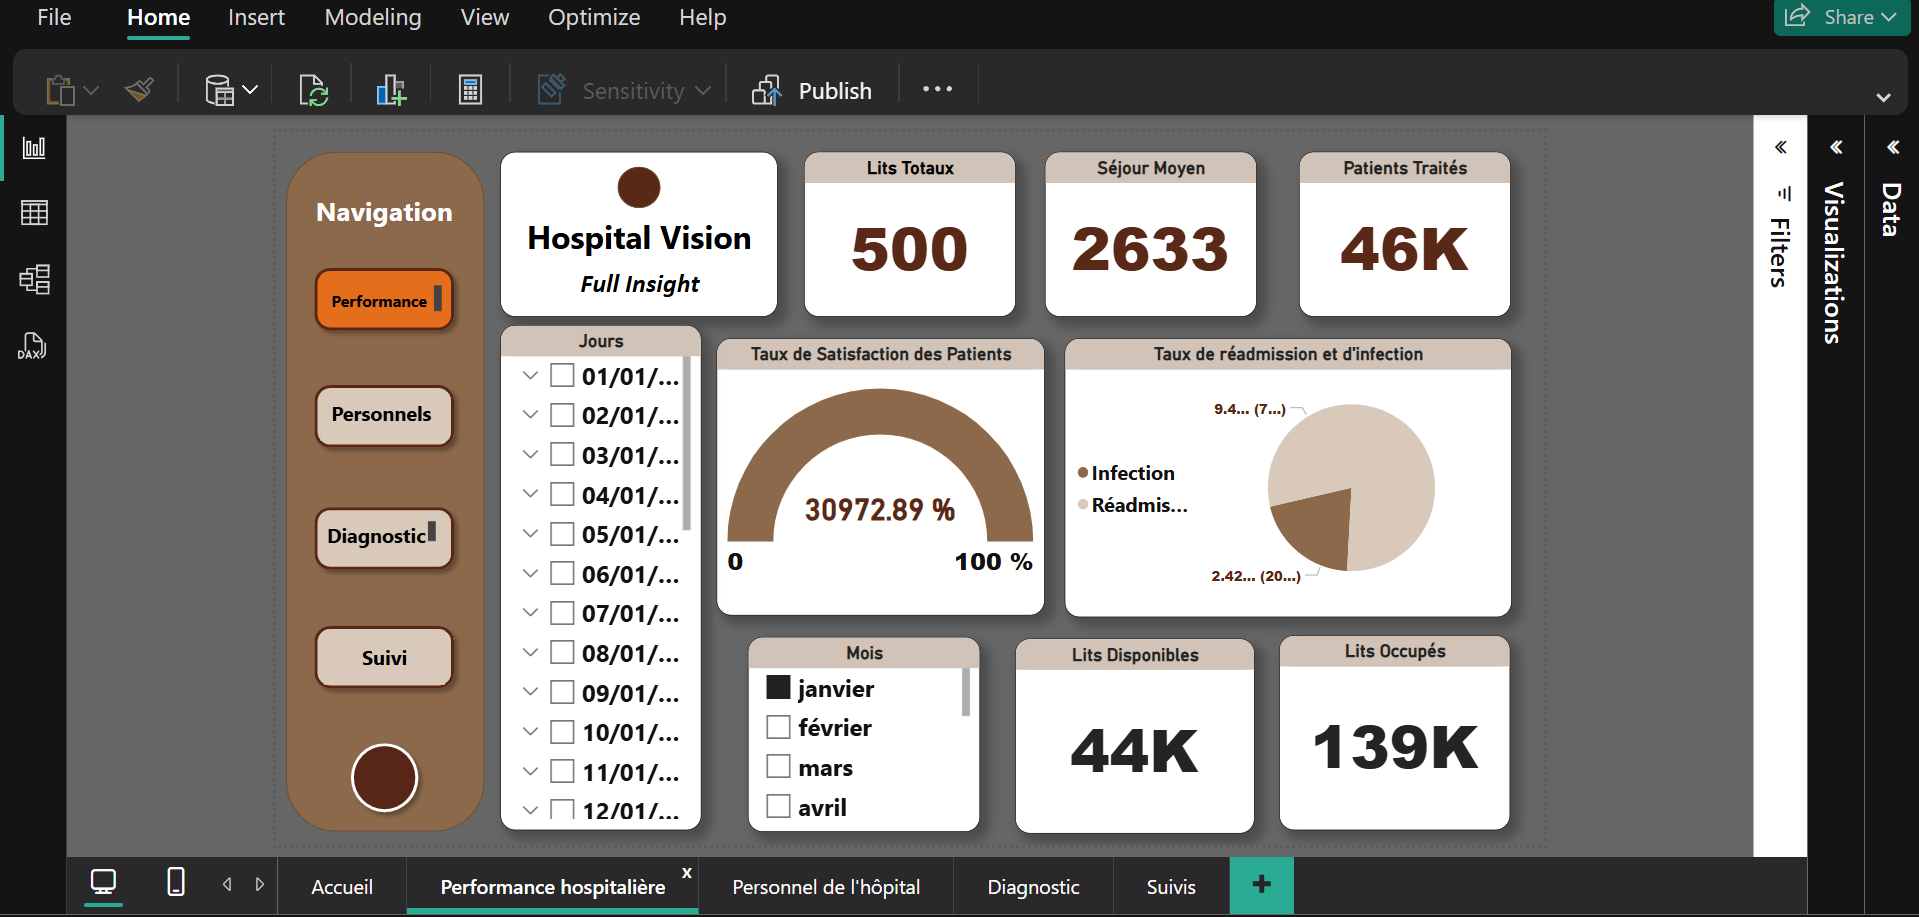

This screenshot's page, from the dashboard's own definition file:
{"tool":"powerbi","page":{"name":"Performance hospitalière","canvas":[1280,720],"ordinal":1},"visuals":[{"type":"card","title":"Lits Totaux","fields":{"Values":["performance_hospital.Lit total"]},"box":[532.8,19.4,213.8,166.8],"z":0},{"type":"textbox","box":[29.8,56.3,159,56.3],"z":0,"group":"g2"},{"type":"shape","box":[29.8,127.5,159,81.2],"z":1000,"group":"g2"},{"type":"gauge","title":"Taux de Satisfaction des Patients","fields":{"Y":["performance_hospital.TauxSatisfactionPatient"],"MinValue":["performance_hospital.ValeurMinimale"],"MaxValue":["performance_hospital.ValeurMaximale"]},"box":[445.2,209,331.6,280.1],"z":1000},{"type":"shape","box":[9.7,19.4,200.8,686.7],"z":2000},{"type":"shape","box":[29.8,369.4,159,81.2],"z":2000,"group":"g2"},{"type":"card","title":"Séjour Moyen","fields":{"Values":["Sum(performance_hospital.AverageStay)"]},"box":[777.4,19.4,213.8,166.8],"z":3000},{"type":"shape","box":[29.8,246.8,159,81.2],"z":3000,"group":"g2"},{"type":"card","title":"Patients Traités","fields":{"Values":["Sum(performance_hospital.PatientsTreated)"]},"box":[1033.3,19.4,213.8,166.8],"z":4000},{"type":"shape","box":[29.8,490.3,159,81.2],"z":4000,"group":"g2"},{"type":"shape","box":[226.5,19.4,279.8,166.6],"z":5000},{"type":"shape","box":[66.2,607.9,86.1,87.8],"z":5000,"group":"g2"},{"type":"group","id":"g1","title":"Groupe 1","box":[237.8,77.6,257.2,101.9],"z":6000},{"type":"textbox","box":[237.8,77.6,257.2,53.4],"z":6000,"group":"g1"},{"type":"shape","box":[344.5,35.6,43.7,42.1],"z":7000},{"type":"textbox","box":[289.6,131,155.3,48.5],"z":7000,"group":"g1"},{"type":"slicer","title":"Jours","fields":{"Values":["personal_hospital.Date","personal_hospital.Date.Variation.Hiérarchie de dates.Jour"]},"box":[227.1,195.3,202.9,510.3],"z":8000},{"type":"pieChart","title":"Taux de réadmission et d''infection","fields":{"Y":["performance_hospital.AveInfection","performance_hospital.AveRead"]},"box":[796.5,209,451.2,281.6],"z":9000},{"type":"card","title":"Lits Disponibles","fields":{"Values":["Sum(performance_hospital.LitsDisponjble)"]},"box":[747.1,511.9,241.8,197.1],"z":10000},{"type":"card","title":"Lits Occupés","fields":{"Values":["Sum(performance_hospital.BedOccupe)"]},"box":[1013.8,508.5,233.6,197.1],"z":11000},{"type":"slicer","title":"Mois","fields":{"Values":["personal_hospital.Date.Variation.Hiérarchie de dates.Mois"]},"box":[477,510.3,234.7,196.8],"z":12000},{"type":"group","id":"g2","title":"Groupe 2","box":[29.8,56.3,159,639.4],"z":13000},{"type":"textbox","box":[48,511.9,122.6,46.4],"z":14000},{"type":"textbox","box":[45.4,387.6,121.1,42.4],"z":15000},{"type":"textbox","box":[44.7,265,122.6,46.4],"z":16000},{"type":"textbox","box":[45.4,149.9,127.2,36.3],"z":17000}]}

Visuals, with their boxes on the page's 1280x720 design canvas (x1, y1, x2, y2). These are canvas units, not pixel positions in the 1919x917 screenshot, which may show the page scaled, cropped or inside an application window:
"Lits Totaux" card: (x1=533, y1=19, x2=747, y2=186)
textbox: (x1=30, y1=56, x2=189, y2=113)
shape: (x1=30, y1=128, x2=189, y2=209)
"Taux de Satisfaction des Patients" gauge: (x1=445, y1=209, x2=777, y2=489)
shape: (x1=10, y1=19, x2=210, y2=706)
shape: (x1=30, y1=369, x2=189, y2=451)
"Séjour Moyen" card: (x1=777, y1=19, x2=991, y2=186)
shape: (x1=30, y1=247, x2=189, y2=328)
"Patients Traités" card: (x1=1033, y1=19, x2=1247, y2=186)
shape: (x1=30, y1=490, x2=189, y2=572)
shape: (x1=226, y1=19, x2=506, y2=186)
shape: (x1=66, y1=608, x2=152, y2=696)
"Groupe 1" group: (x1=238, y1=78, x2=495, y2=180)
textbox: (x1=238, y1=78, x2=495, y2=131)
shape: (x1=344, y1=36, x2=388, y2=78)
textbox: (x1=290, y1=131, x2=445, y2=180)
"Jours" slicer: (x1=227, y1=195, x2=430, y2=706)
"Taux de réadmission et d''infection" pieChart: (x1=796, y1=209, x2=1248, y2=491)
"Lits Disponibles" card: (x1=747, y1=512, x2=989, y2=709)
"Lits Occupés" card: (x1=1014, y1=508, x2=1247, y2=706)
"Mois" slicer: (x1=477, y1=510, x2=712, y2=707)
"Groupe 2" group: (x1=30, y1=56, x2=189, y2=696)
textbox: (x1=48, y1=512, x2=171, y2=558)
textbox: (x1=45, y1=388, x2=166, y2=430)
textbox: (x1=45, y1=265, x2=167, y2=311)
textbox: (x1=45, y1=150, x2=173, y2=186)
